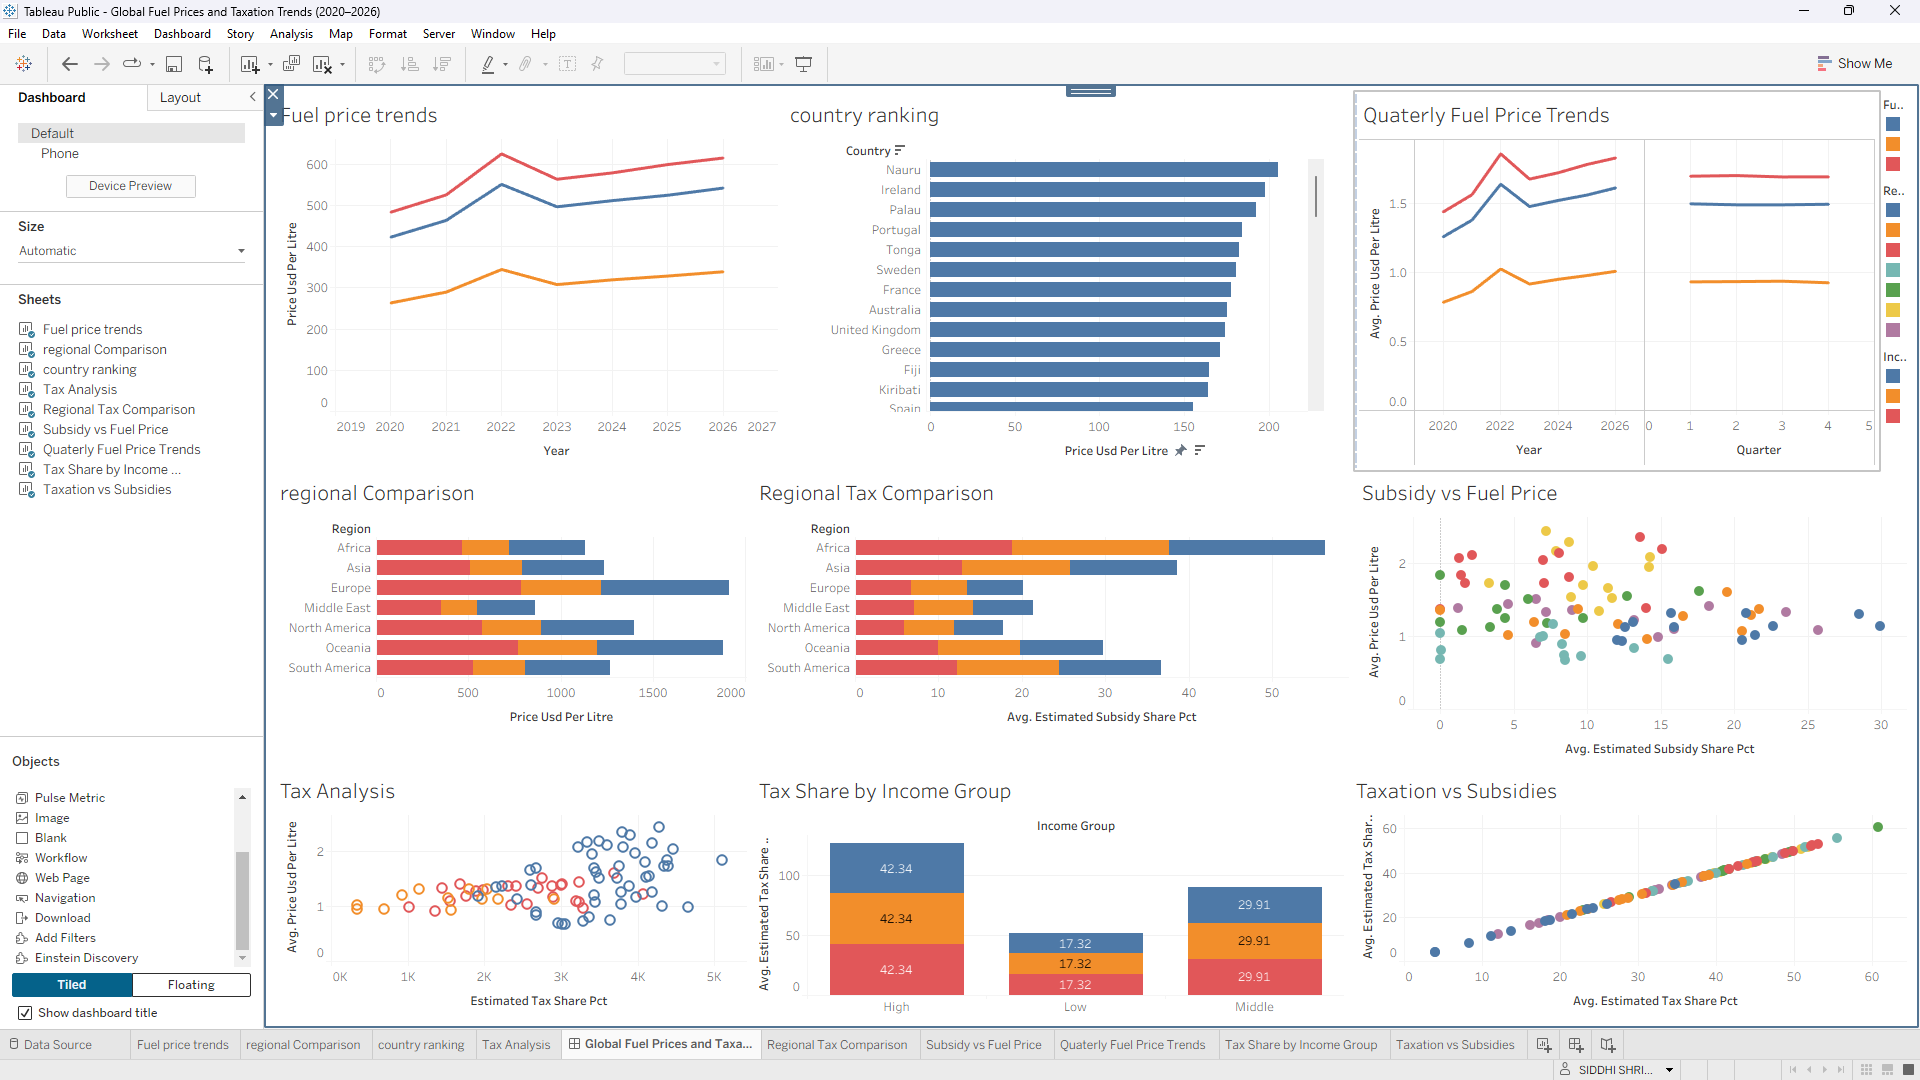

What the dashboard file says about the page in this screenshot:
{"tool":"tableau","page":{"name":"Global Fuel Prices and Taxation Trends (2020–2026)","canvas":[1620,1260],"ordinal":0},"visuals":[{"type":"worksheet","title":"Fuel price trends","mark":"Line","rows":["price_usd_per_litre"],"cols":["year"],"box":[8,8,498.9,507]},{"type":"worksheet","title":"country ranking","mark":"Automatic","rows":["country"],"cols":["price_usd_per_litre"],"box":[506.9,8,573,507]},{"type":"worksheet","title":"Quaterly Fuel Price Trends","mark":"Line","rows":["price_usd_per_litre"],"cols":["year","quarter"],"box":[1079.9,8,500.1,507]},{"type":"legend","title":"Fuel price trends","param":"[federated.0pnmtnu1b571yz1ctw0c519fl663].[none:fuel_type:nk]","box":[1580,8,32,86]},{"type":"legend","title":"Subsidy vs Fuel Price","param":"[federated.0pnmtnu1b571yz1ctw0c519fl663].[none:region:nk]","box":[1580,94,32,166]},{"type":"legend","title":"Tax Analysis","param":"[federated.0pnmtnu1b571yz1ctw0c519fl663].[none:income_group:nk]","box":[1580,260,32,86]},{"type":"worksheet","title":"regional Comparison","mark":"Automatic","rows":["region"],"cols":["price_usd_per_litre"],"box":[8,515,469,266]},{"type":"worksheet","title":"Regional Tax Comparison","mark":"Bar","rows":["region"],"cols":["estimated_subsidy_share_pct"],"box":[477,515,590,399]},{"type":"worksheet","title":"Subsidy vs Fuel Price","mark":"Circle","rows":["price_usd_per_litre"],"cols":["estimated_subsidy_share_pct"],"box":[1067,515,545,399]},{"type":"worksheet","title":"Tax Analysis","mark":"Automatic","rows":["price_usd_per_litre"],"cols":["estimated_tax_share_pct"],"box":[8,914,469,338]},{"type":"worksheet","title":"Tax Share by Income Group","mark":"Automatic","rows":["estimated_tax_share_pct"],"cols":["income_group"],"box":[477,914,584,338]},{"type":"worksheet","title":"Taxation vs Subsidies","mark":"Circle","rows":["estimated_tax_share_pct"],"cols":["estimated_tax_share_pct"],"box":[1061,914,551,338]}]}

Visuals, with their boxes on the page's 1620x1260 design canvas (x1, y1, x2, y2). These are canvas units, not pixel positions in the 1920x1080 screenshot, which may show the page scaled, cropped or inside an application window:
"Fuel price trends" worksheet (Line marks): select_region(8, 8, 507, 515)
"country ranking" worksheet: select_region(507, 8, 1080, 515)
"Quaterly Fuel Price Trends" worksheet (Line marks): select_region(1080, 8, 1580, 515)
"Fuel price trends" legend: select_region(1580, 8, 1612, 94)
"Subsidy vs Fuel Price" legend: select_region(1580, 94, 1612, 260)
"Tax Analysis" legend: select_region(1580, 260, 1612, 346)
"regional Comparison" worksheet: select_region(8, 515, 477, 781)
"Regional Tax Comparison" worksheet (Bar marks): select_region(477, 515, 1067, 914)
"Subsidy vs Fuel Price" worksheet (Circle marks): select_region(1067, 515, 1612, 914)
"Tax Analysis" worksheet: select_region(8, 914, 477, 1252)
"Tax Share by Income Group" worksheet: select_region(477, 914, 1061, 1252)
"Taxation vs Subsidies" worksheet (Circle marks): select_region(1061, 914, 1612, 1252)
